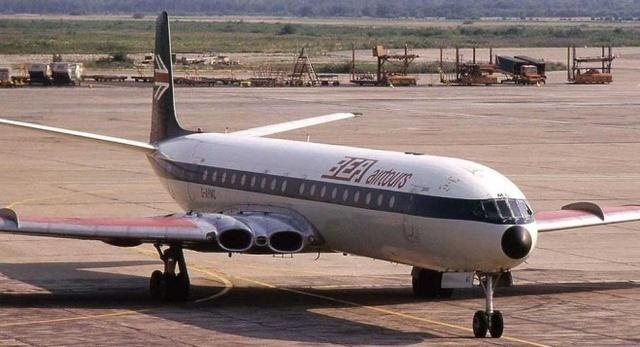airplane: (1, 9, 637, 341)
